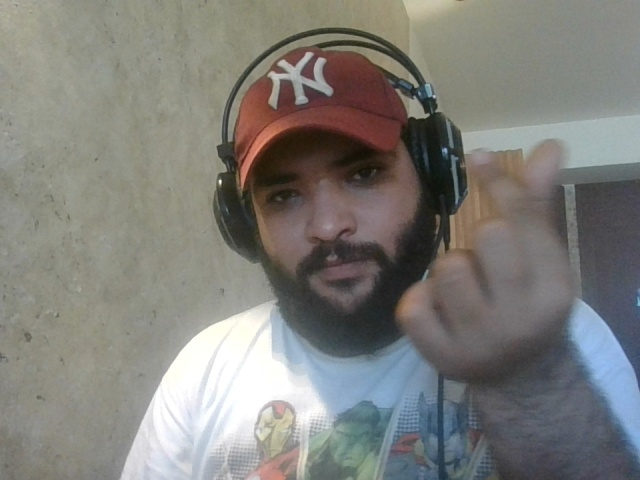iloveyou: (395, 132, 592, 403)
